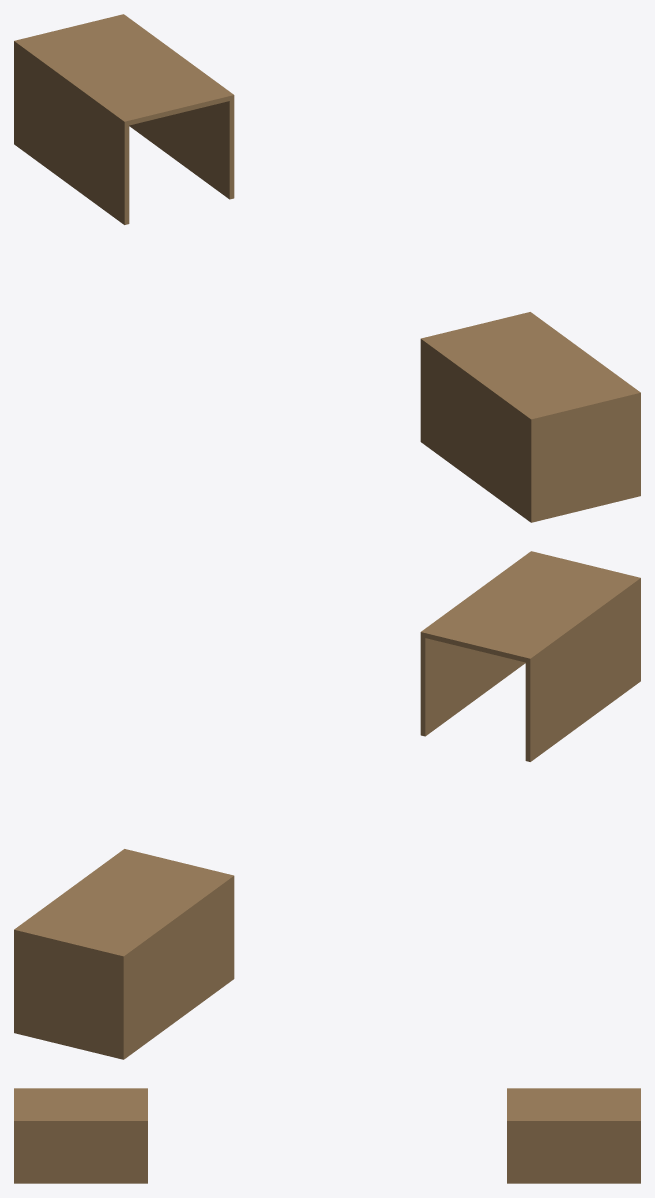
The model's file is ShoulderPads.dae.
3 views of the same model, one above another, from view 1: azimuth 30°, elevation 25°; view 2: azimuth 150°, elevation 25°; view 3: azimuth 270°, elevation 25° (orthographic). The views are drawn at different scales.
Visible parts, largest first — view 1: shoulder_pads; view 2: shoulder_pads; view 3: shoulder_pads.
Boxes of the visible parts, x1,y1,x2,y2 form: shoulder_pads: (14,14,640,522); shoulder_pads: (14,551,640,1059); shoulder_pads: (14,1088,640,1183).
Size of the model in its own units: 0.07 by 0.571 by 0.063.
Materials: 1 (1 with a texture image).
